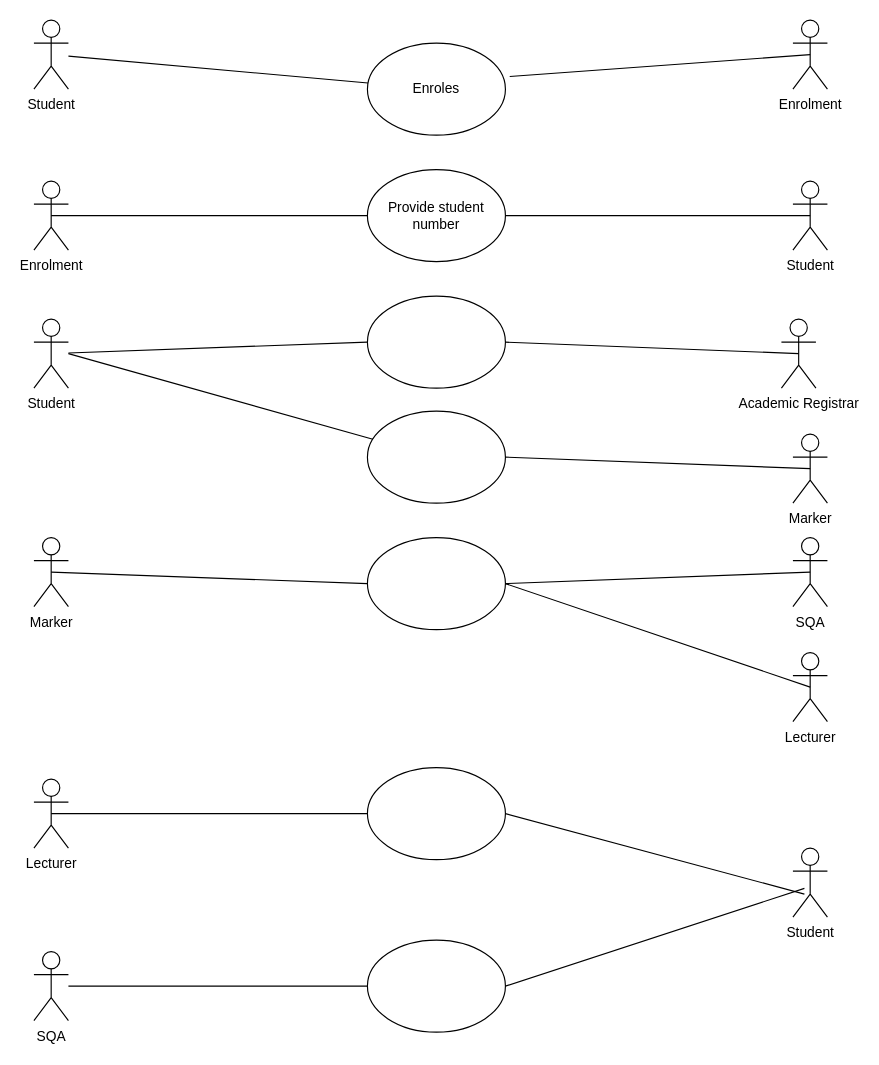
This 879x1065 diagram has some shape labels left out. The centre of each missing label's shape, as x and y in pixels:
Give results: (x=435, y=583)
Give student card: (x=435, y=341)
Post results: (x=435, y=985)
Take exam: (x=435, y=456)
Update Student Database: (x=435, y=813)
